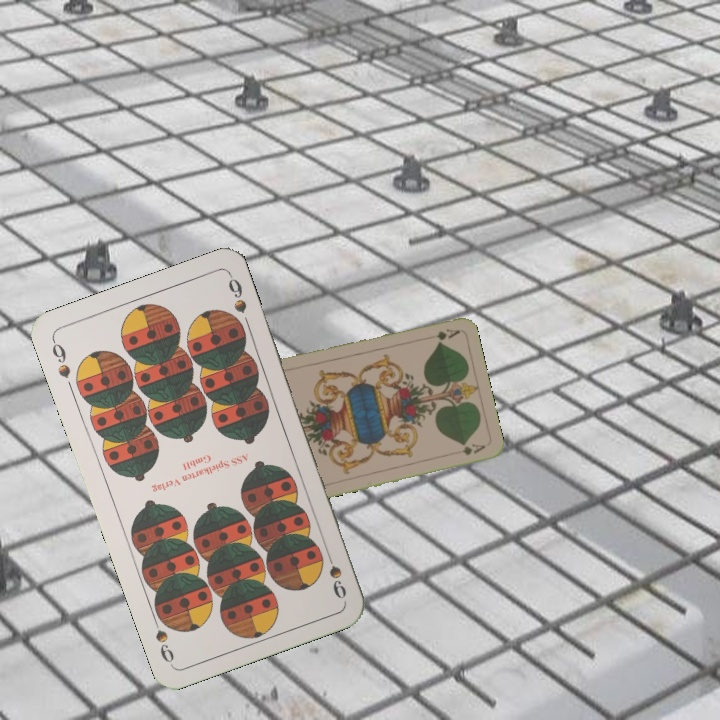GA: (432, 325, 462, 343)
S9: (321, 544, 349, 602), (48, 335, 74, 381)
